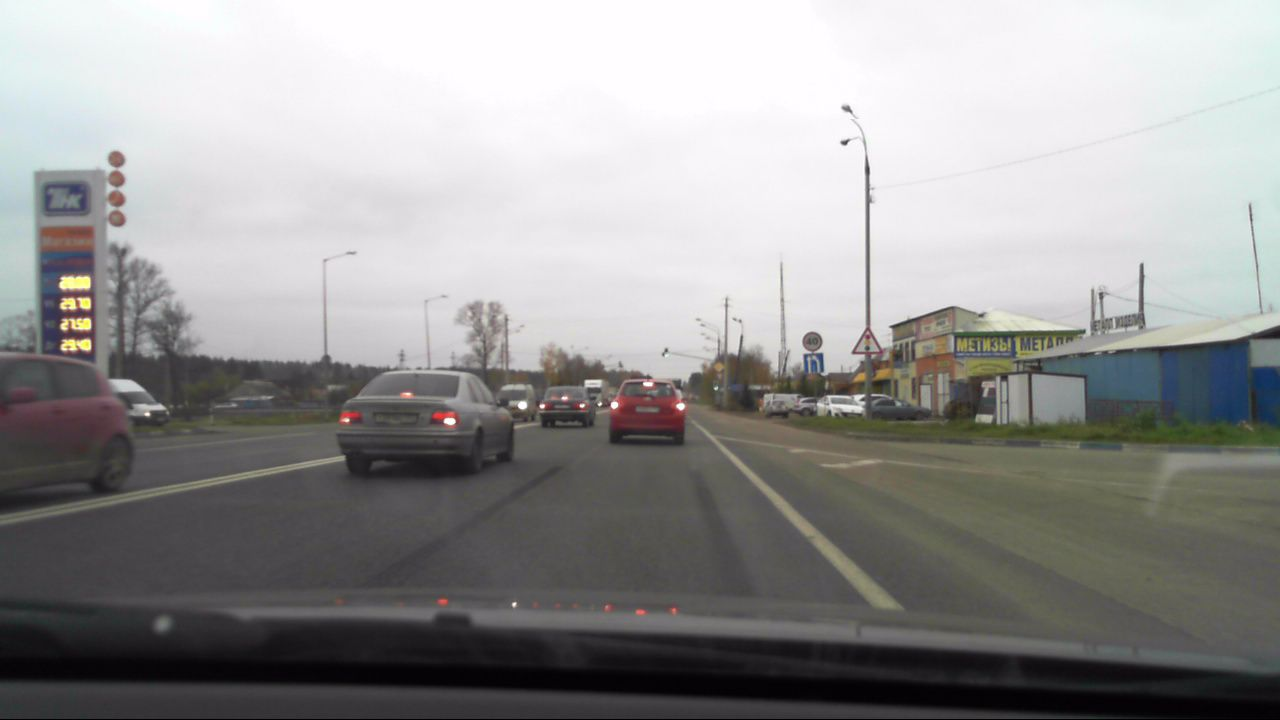speed_warning_40: (798, 330, 823, 351)
